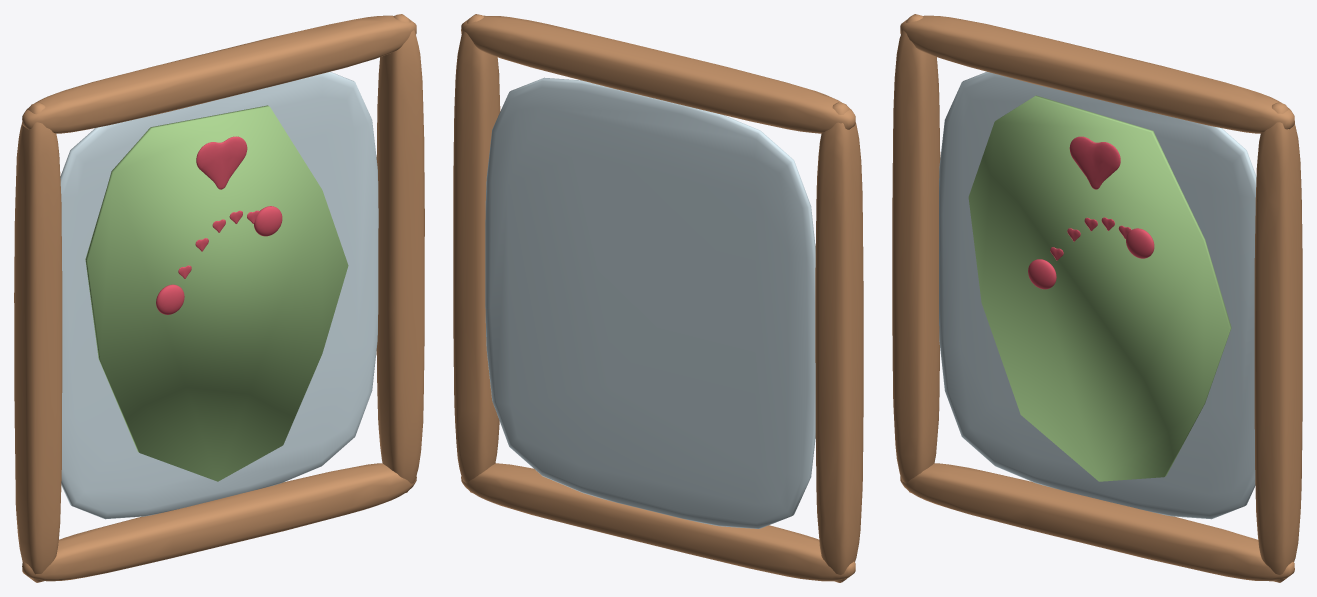
The model's file is deco_cuadro_mapa.glb.
The picture shows the model from 3 angles, left to right: view 1: azimuth 30°, elevation 25°; view 2: azimuth 150°, elevation 25°; view 3: azimuth 330°, elevation 25°; orthographic projection.
Visible parts, largest first — view 1: colombia.001, lienzo.009, marco vertical.018, marco vertical.019, marco horizontal.019, marco horizontal.018, corazón mapa.001, ciudad 0.001, ciudad 1.001; view 2: lienzo.009, marco vertical.018, marco horizontal.019, marco vertical.019, marco horizontal.018; view 3: colombia.001, lienzo.009, marco vertical.019, marco vertical.018, marco horizontal.019, marco horizontal.018, corazón mapa.001, ciudad 0.001, ciudad 1.001.
Part boxes in pixels (left/top/right/bottom): colombia.001: left=85, top=105, right=348, bottom=481; lienzo.009: left=60, top=72, right=378, bottom=519; marco vertical.018: left=14, top=102, right=62, bottom=582; marco vertical.019: left=376, top=14, right=424, bottom=492; marco horizontal.019: left=22, top=15, right=416, bottom=133; marco horizontal.018: left=22, top=463, right=416, bottom=581; corazón mapa.001: left=196, top=136, right=247, bottom=189; ciudad 0.001: left=156, top=284, right=184, bottom=314; ciudad 1.001: left=254, top=206, right=282, bottom=236; lienzo.009: left=485, top=77, right=815, bottom=528; marco vertical.018: left=815, top=102, right=863, bottom=582; marco horizontal.019: left=461, top=15, right=855, bottom=133; marco vertical.019: left=453, top=14, right=500, bottom=492; marco horizontal.018: left=461, top=463, right=855, bottom=581; colombia.001: left=968, top=95, right=1231, bottom=481; lienzo.009: left=939, top=72, right=1256, bottom=519; marco vertical.019: left=1254, top=102, right=1302, bottom=582; marco vertical.018: left=892, top=14, right=940, bottom=492; marco horizontal.019: left=900, top=15, right=1294, bottom=133; marco horizontal.018: left=900, top=463, right=1294, bottom=581; corazón mapa.001: left=1069, top=136, right=1120, bottom=189; ciudad 0.001: left=1028, top=259, right=1056, bottom=289; ciudad 1.001: left=1126, top=228, right=1154, bottom=258.
Size of the model in its own units: 0.6098 by 0.7096 by 0.0597.
